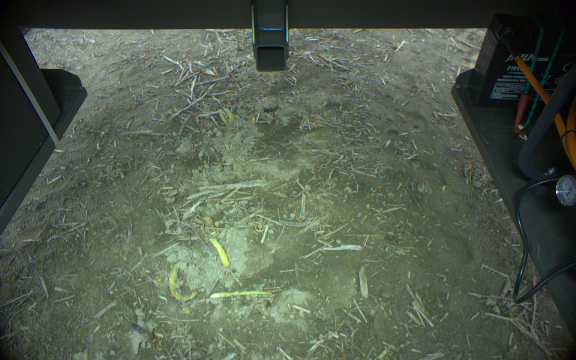aspa: (166, 267, 195, 303), (206, 238, 229, 267), (209, 290, 272, 298), (131, 321, 153, 343)
